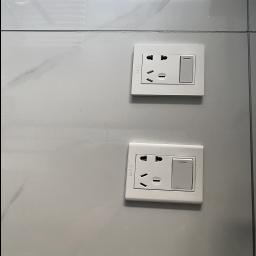outlet: (119, 144, 206, 206), (128, 44, 208, 100)
